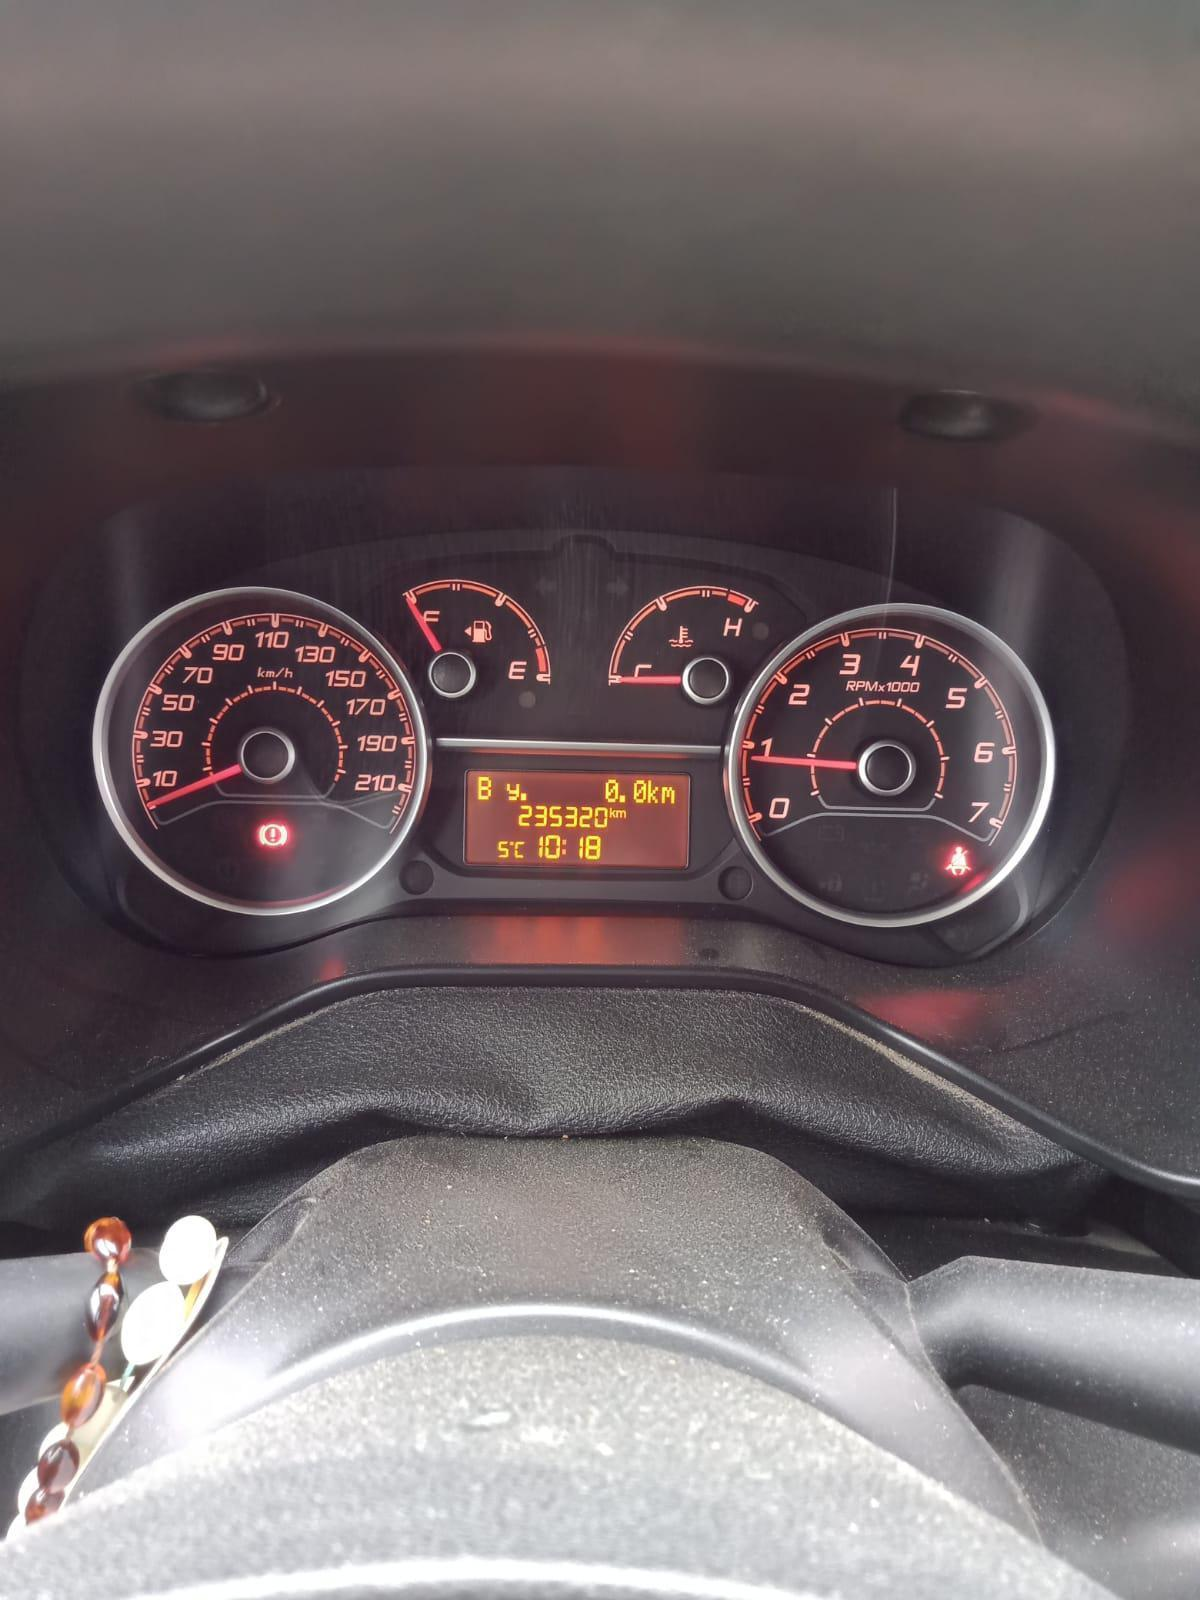,: (619, 794, 626, 803), (519, 792, 527, 801)
0: (603, 779, 619, 803), (632, 779, 647, 804), (545, 834, 560, 859), (592, 806, 608, 828)
1: (537, 835, 545, 858), (579, 835, 584, 859)
2: (517, 804, 533, 826), (579, 806, 592, 828)
3: (533, 805, 548, 826), (563, 806, 579, 826)
5: (548, 805, 562, 826), (497, 840, 509, 858)
8: (584, 834, 603, 860)
X: (475, 775, 493, 801), (647, 779, 659, 805), (661, 785, 677, 805), (505, 784, 519, 800), (513, 840, 524, 859), (615, 809, 626, 820), (561, 839, 567, 855), (609, 808, 616, 819)
odometer: (461, 767, 692, 871)
